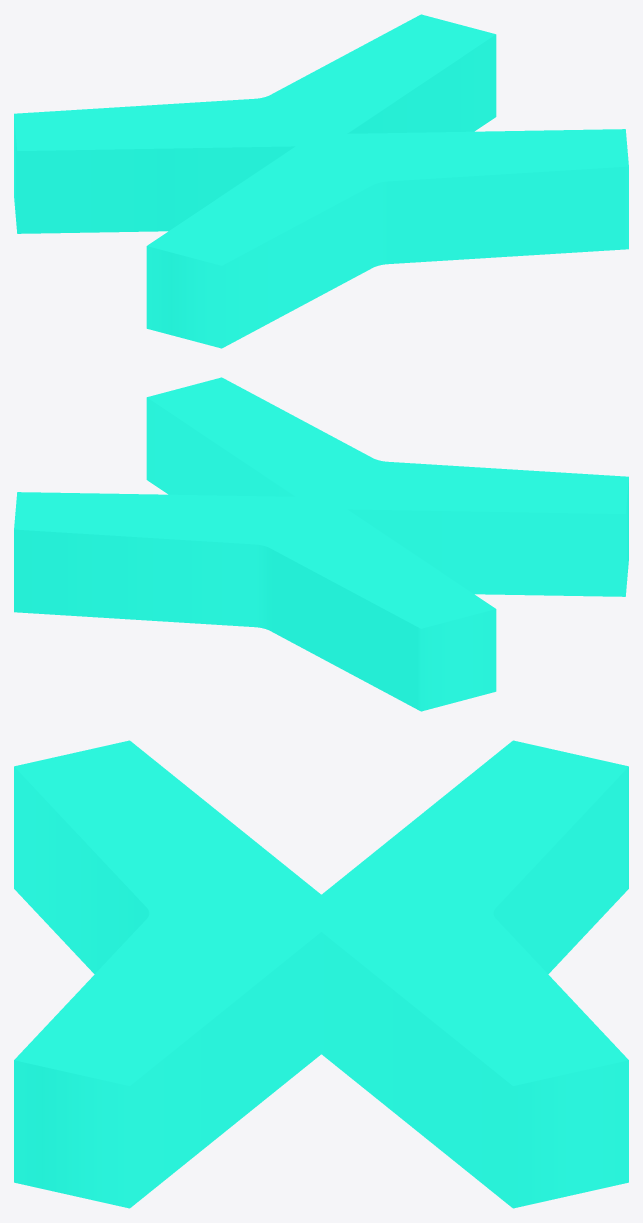
File: multiversex.gltf
3 views of the same model, one above another, from view 1: azimuth 30°, elevation 25°; view 2: azimuth 150°, elevation 25°; view 3: azimuth 270°, elevation 25° (orthographic). The views are drawn at different scales.
Visible parts, largest first — view 1: Curve; view 2: Curve; view 3: Curve.
Boxes of the visible parts, box(x1,y1,x2,y2) form: Curve: box(14, 14, 628, 348); Curve: box(14, 377, 628, 711); Curve: box(14, 740, 628, 1208).
Size of the model in its own units: 0.6759 by 0.1116 by 0.5081.
